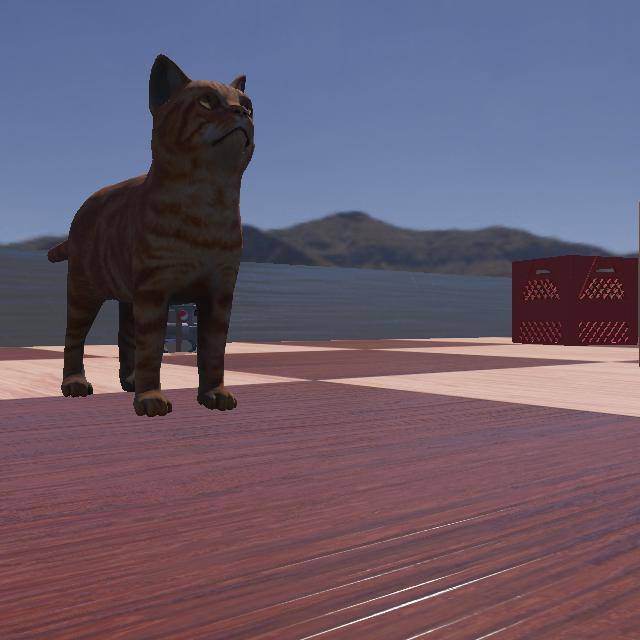cardboard-box: (579, 132, 639, 394), (579, 132, 639, 394)
cat: (1, 31, 288, 426), (1, 31, 288, 426), (1, 31, 288, 426)
plastic-crate: (503, 254, 639, 346)
